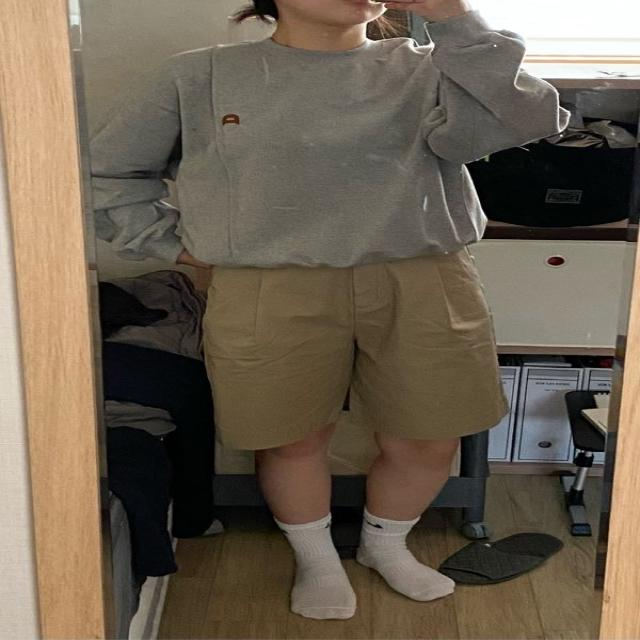mtm: (86, 12, 574, 268)
shortpants: (212, 254, 514, 453)
